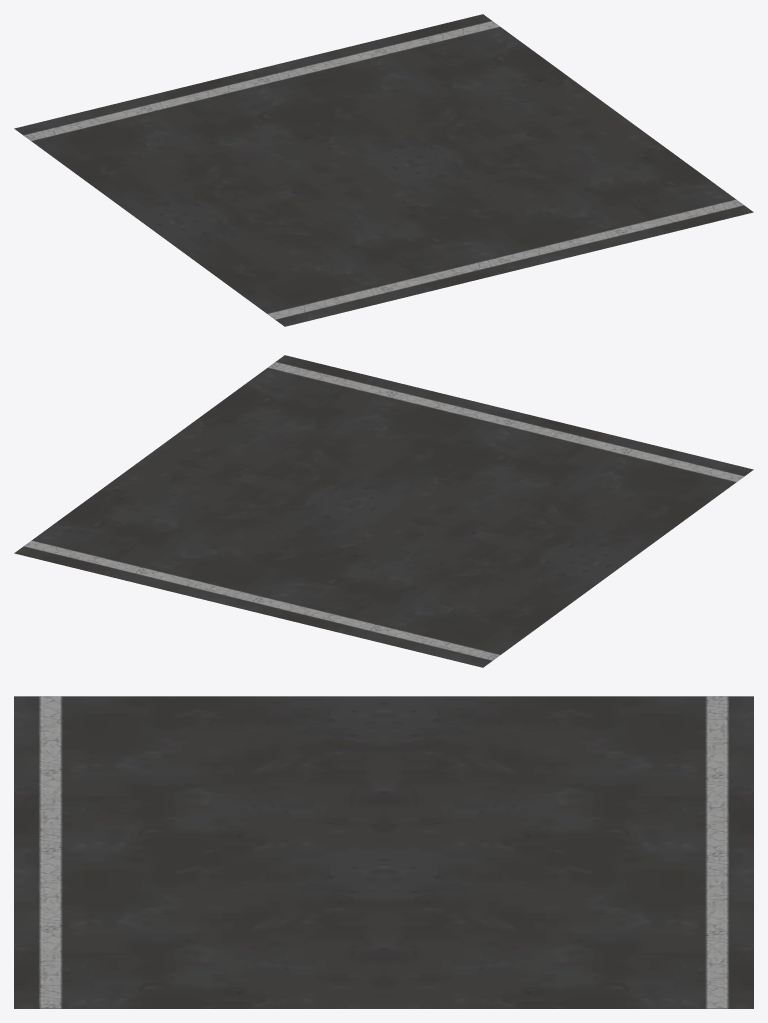
The model's file is Street_2Lane_noSidewalk.glb.
3 renders of one model, top to bottom at view 1: azimuth 30°, elevation 25°; view 2: azimuth 150°, elevation 25°; view 3: azimuth 270°, elevation 25°, orthographic. The views are drawn at different scales.
Parts seen in each view (by area): view 1: Street_2Lane_noSidewalk; view 2: Street_2Lane_noSidewalk; view 3: Street_2Lane_noSidewalk.
Boxes of the visible parts, x1,y1,x2,y2 form: Street_2Lane_noSidewalk: (14,14,753,326); Street_2Lane_noSidewalk: (14,355,753,667); Street_2Lane_noSidewalk: (14,696,753,1008).
Size of the model in its own units: 6 by 0.0022 by 6.
Materials: 2 (2 with a texture image).
